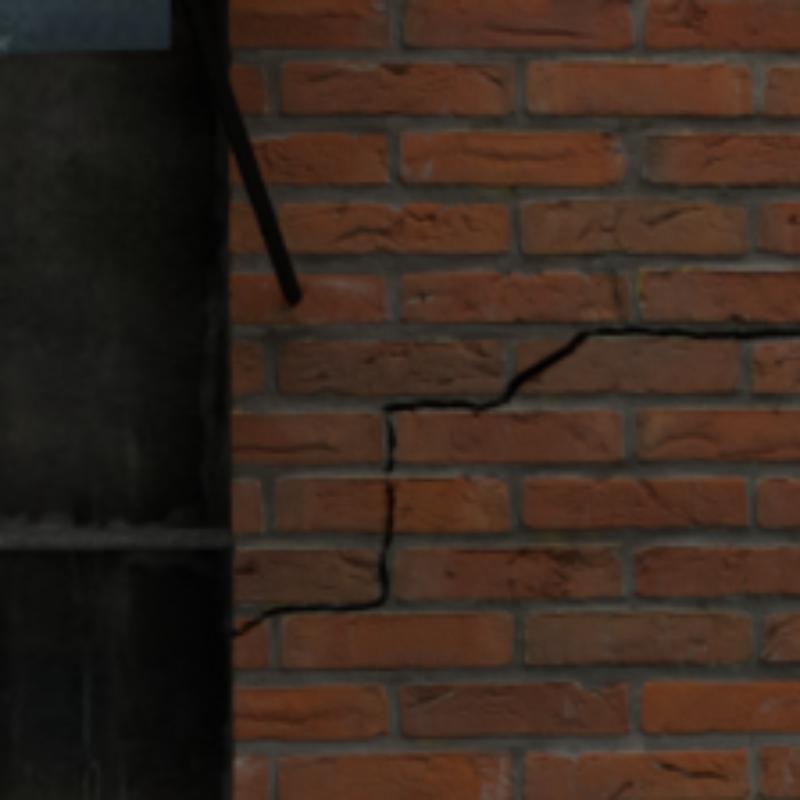pothole: (232, 329, 796, 636)
